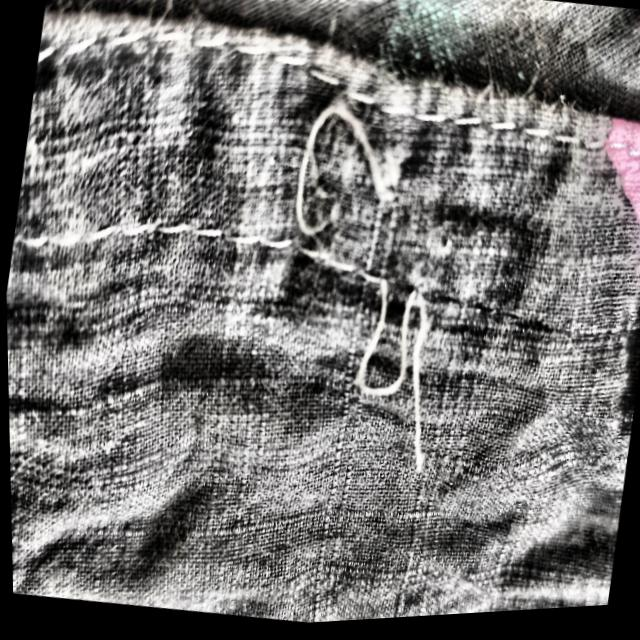Stitch: (194, 77, 547, 554)
